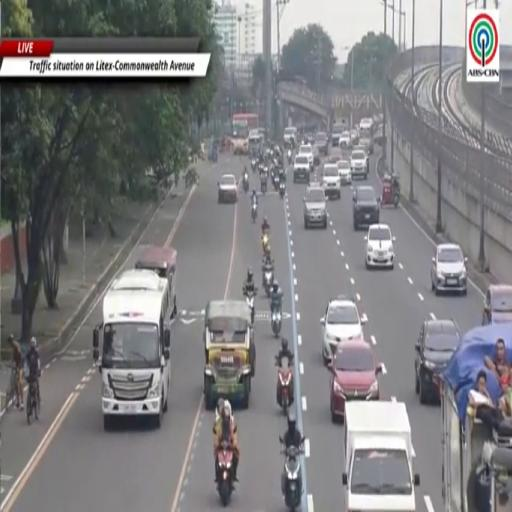bus: (231, 114, 258, 154), (359, 119, 375, 154)
car: (328, 341, 382, 422), (415, 319, 461, 403), (321, 296, 365, 364), (431, 244, 467, 295), (365, 224, 395, 269), (353, 186, 380, 230), (483, 284, 511, 325), (304, 183, 327, 229), (322, 164, 341, 199), (218, 174, 238, 204), (350, 150, 369, 180), (294, 155, 310, 183), (298, 144, 314, 170), (330, 123, 346, 147), (337, 159, 351, 184), (315, 133, 328, 155), (284, 126, 297, 147), (360, 135, 373, 155), (327, 147, 343, 163), (339, 131, 352, 147), (360, 118, 374, 132), (312, 144, 320, 166), (351, 130, 359, 145)
jeepney: (204, 300, 255, 409), (135, 246, 176, 317)
motorcycle: (282, 446, 303, 511), (217, 442, 233, 506), (276, 358, 293, 414), (246, 288, 257, 325), (263, 268, 273, 297), (271, 310, 281, 338), (242, 172, 250, 194), (262, 232, 270, 254), (261, 173, 267, 195), (273, 170, 279, 191), (251, 201, 257, 222), (393, 190, 399, 207), (279, 182, 285, 198), (258, 162, 264, 175), (251, 158, 256, 172), (288, 150, 291, 165)
tricycle: (381, 174, 399, 207)
truck: (439, 324, 511, 511), (93, 269, 173, 430), (343, 402, 419, 511)
